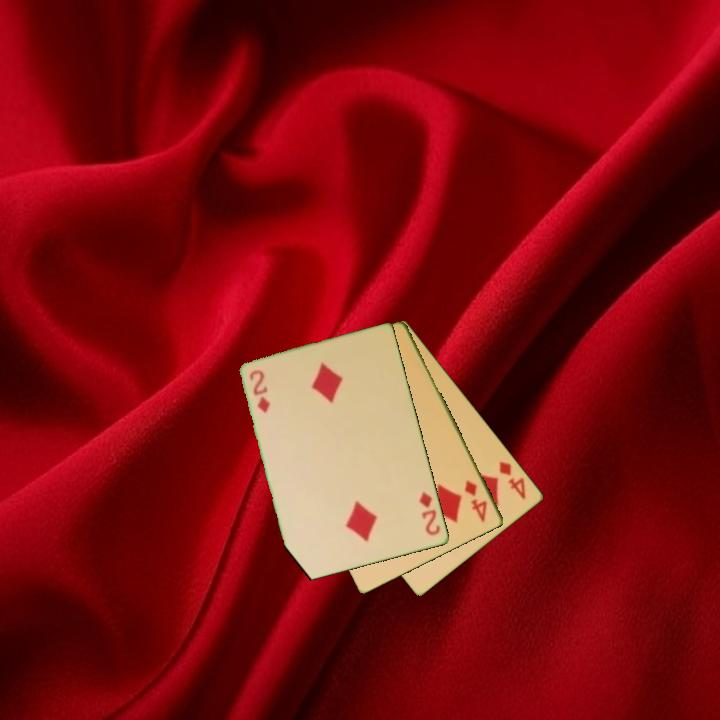2d: (416, 489, 444, 539), (246, 366, 273, 416)
4d: (496, 457, 529, 502), (461, 476, 491, 525)
